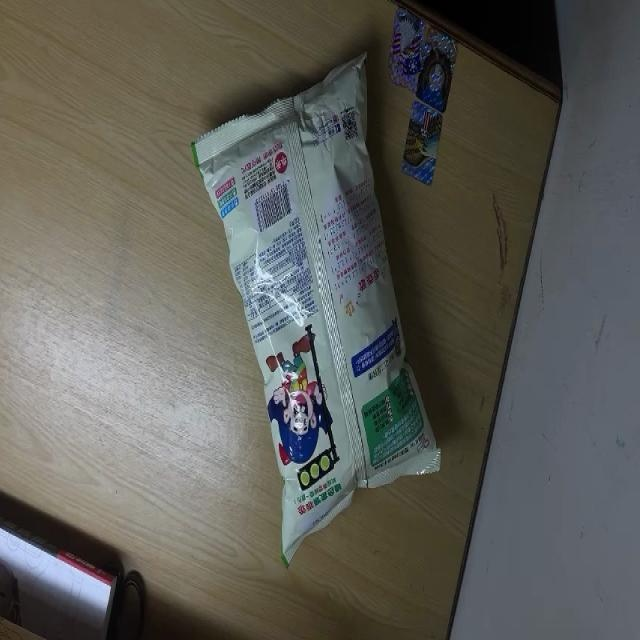Good-Luck: (191, 51, 439, 570)
